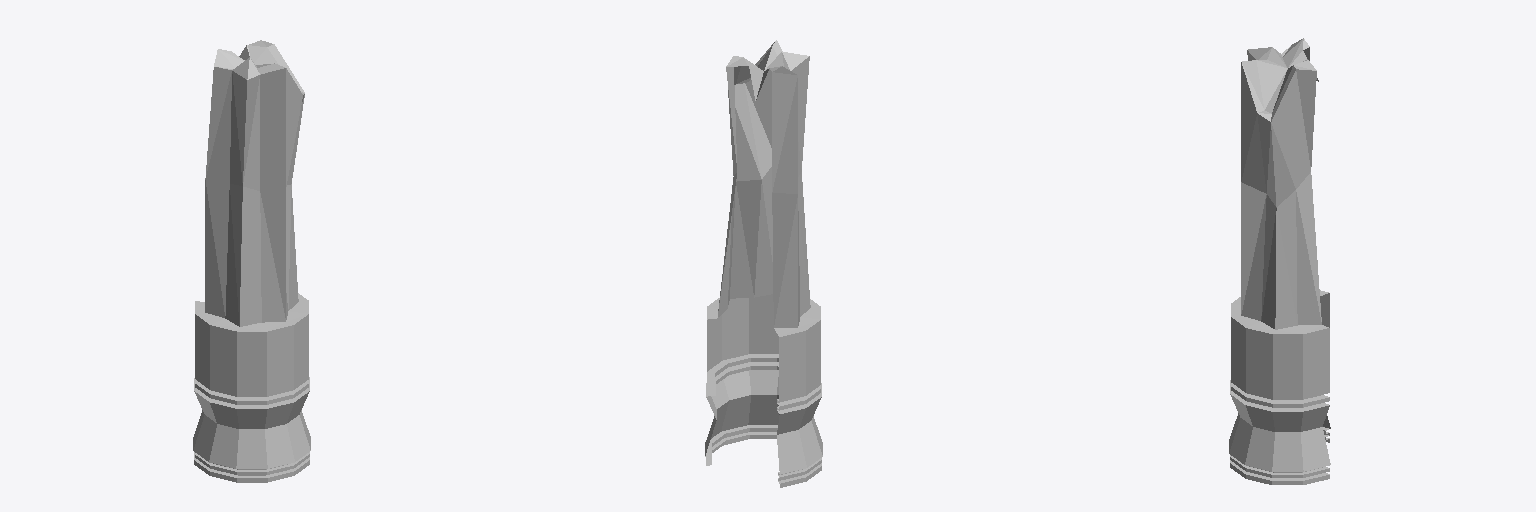
The model's file is pilierCasse1.obj.
3 renders of one model, left to right at view 1: azimuth 30°, elevation 25°; view 2: azimuth 150°, elevation 25°; view 3: azimuth 270°, elevation 25°, orthographic.
Bounding box in the file's own units: 0.2851 × 1.1 × 0.2469.